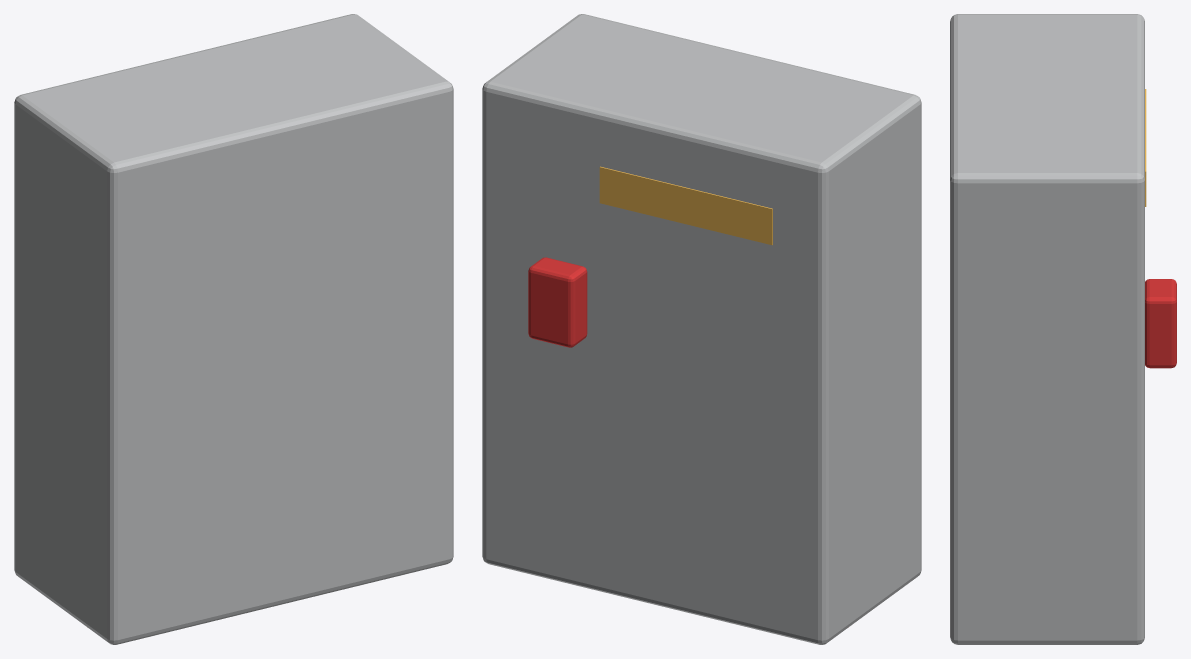
Rendered from generic-combiner-4s.glb.
3 views of the same model, side by side, from view 1: azimuth 30°, elevation 25°; view 2: azimuth 150°, elevation 25°; view 3: azimuth 270°, elevation 25° (orthographic). The views are drawn at different scales.
Parts seen in each view (by area): view 1: body; view 2: body, label, handle; view 3: body, handle.
Part boxes in pixels (bbox=[...]): body: bbox=[14, 14, 453, 644]; body: bbox=[482, 14, 921, 644]; label: bbox=[599, 166, 772, 245]; handle: bbox=[528, 257, 587, 347]; body: bbox=[950, 14, 1144, 644]; handle: bbox=[1145, 279, 1176, 368].
Size of the model in its own units: 0.3 by 0.418 by 0.1745.
